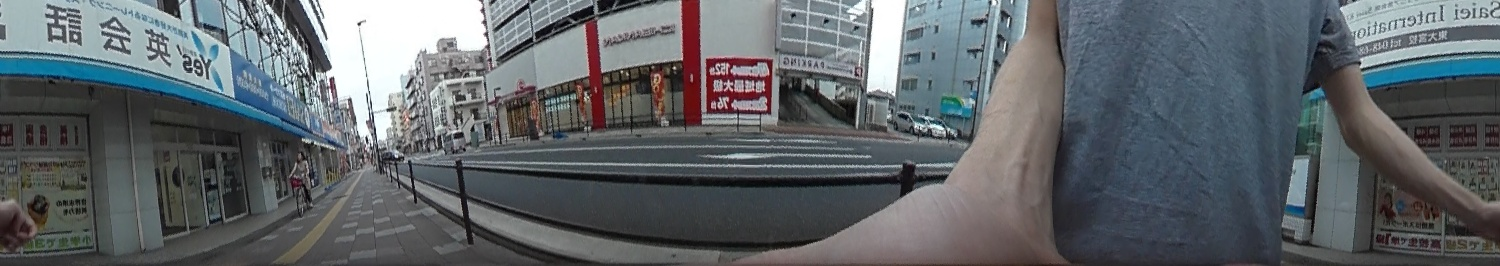person: (288, 150, 314, 205)
